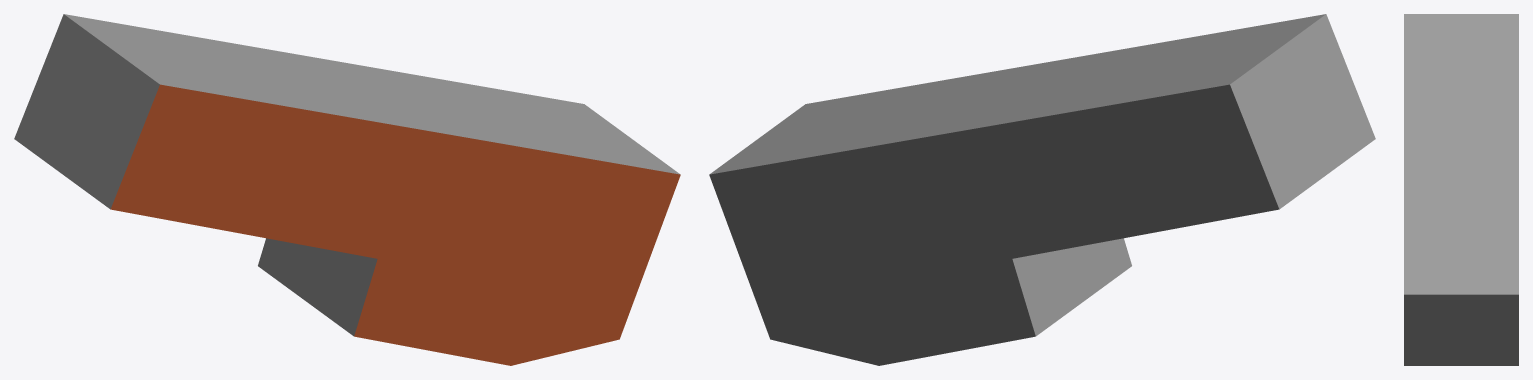
The model's file is construction_5955_assumed_A_Casa_h6m.obj.
3 views of the same model, side by side, from view 1: azimuth 30°, elevation 25°; view 2: azimuth 150°, elevation 25°; view 3: azimuth 270°, elevation 25° (orthographic). The views are drawn at different scales.
Visible parts, largest first — view 1: construction_5955_assumed_A_Casa; view 2: construction_5955_assumed_A_Casa; view 3: construction_5955_assumed_A_Casa.
Boxes of the visible parts, left/top/right/bottom form: construction_5955_assumed_A_Casa: left=14, top=14, right=680, bottom=365; construction_5955_assumed_A_Casa: left=709, top=14, right=1375, bottom=365; construction_5955_assumed_A_Casa: left=1404, top=14, right=1518, bottom=365.
Bounding box in the file's own units: 20.49 × 12.6 × 6.
